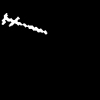double_crochet: (2, 13, 46, 33)
